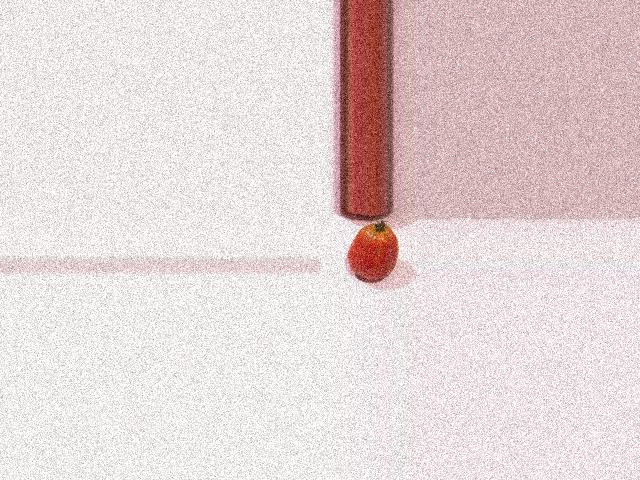tomato: (347, 223, 397, 279)
